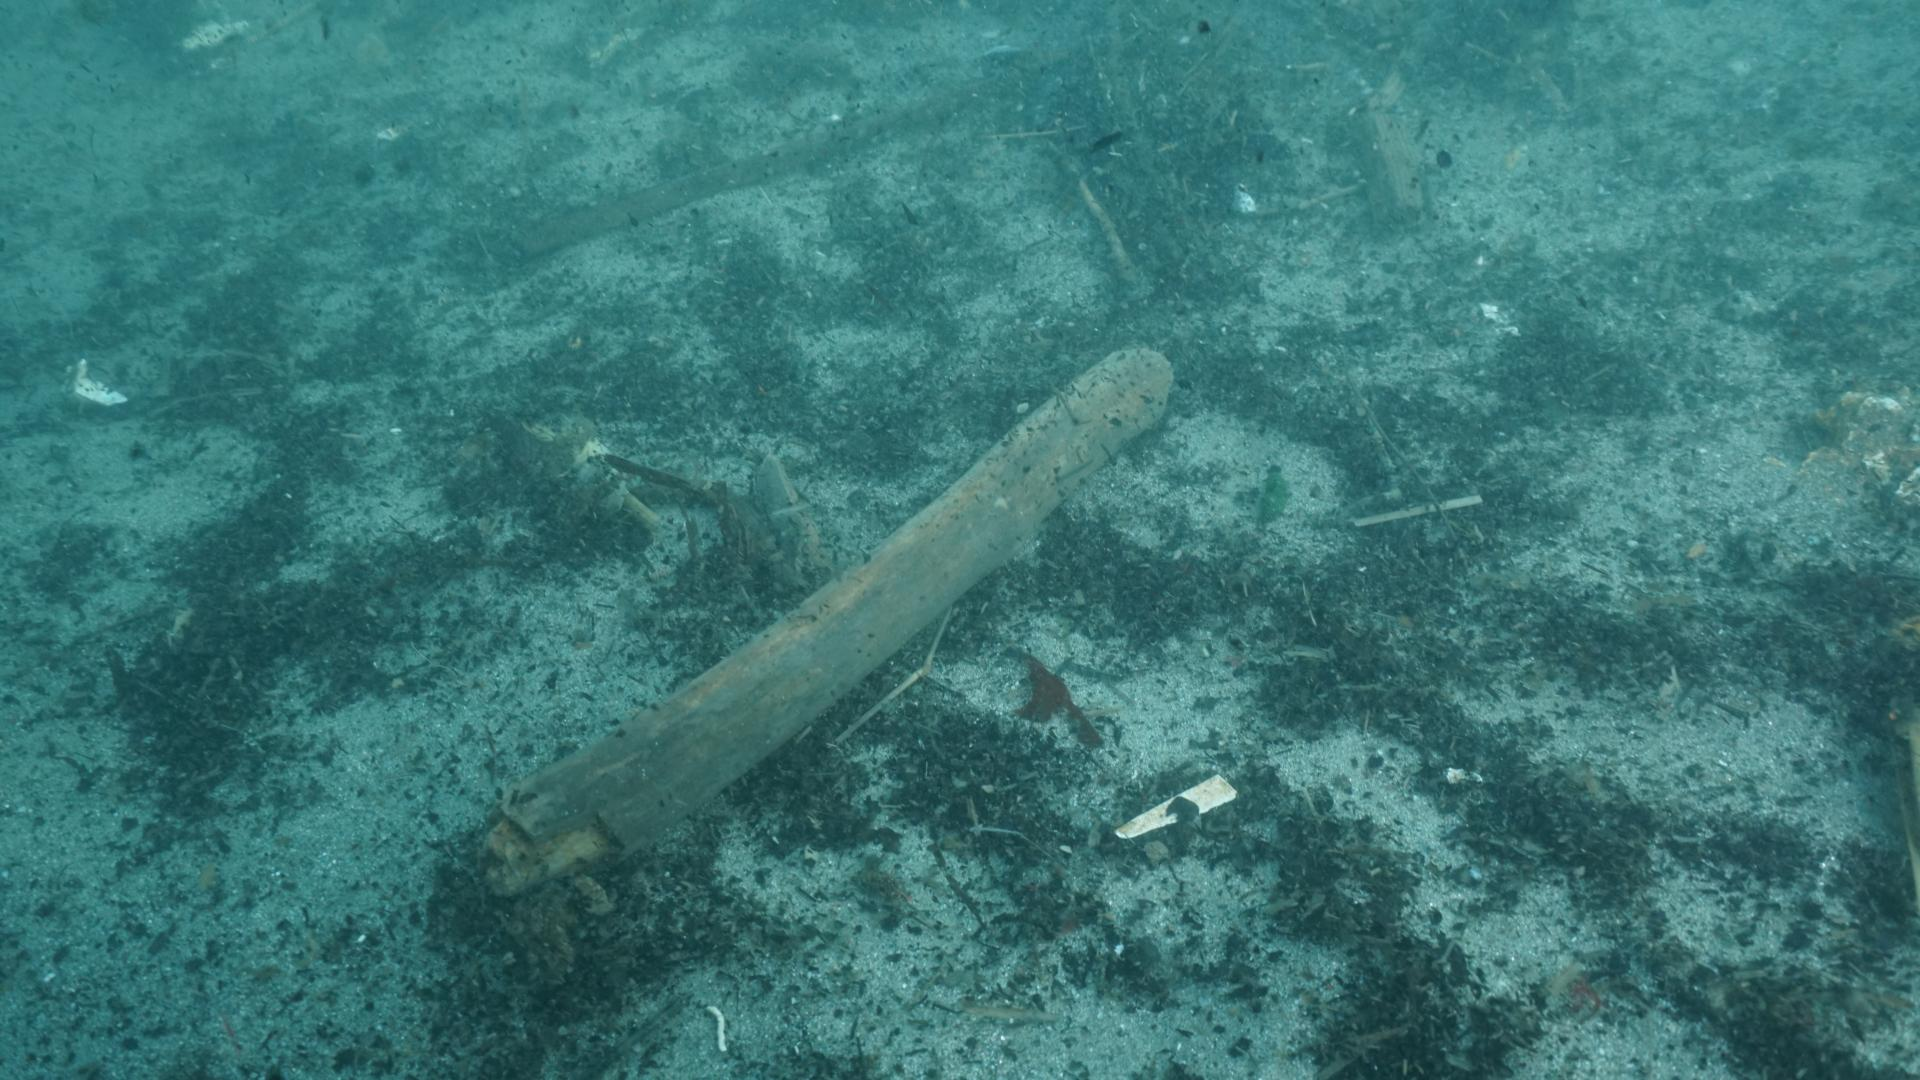wood: (473, 344, 1178, 895)
